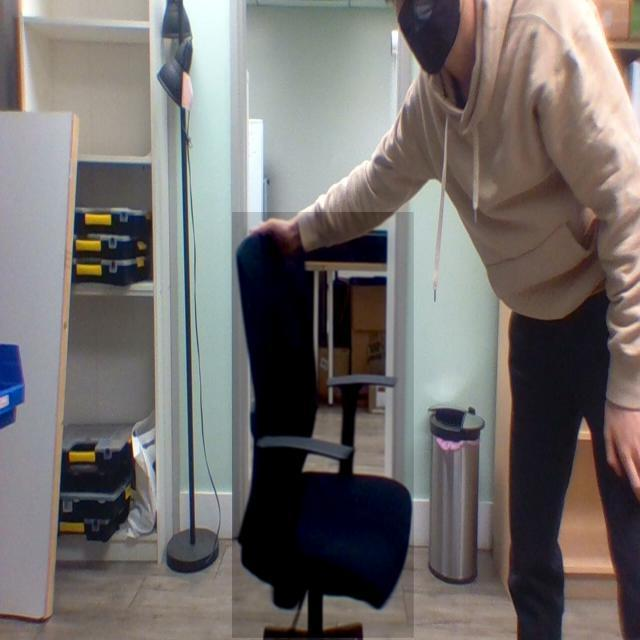chair: (232, 212, 416, 640)
